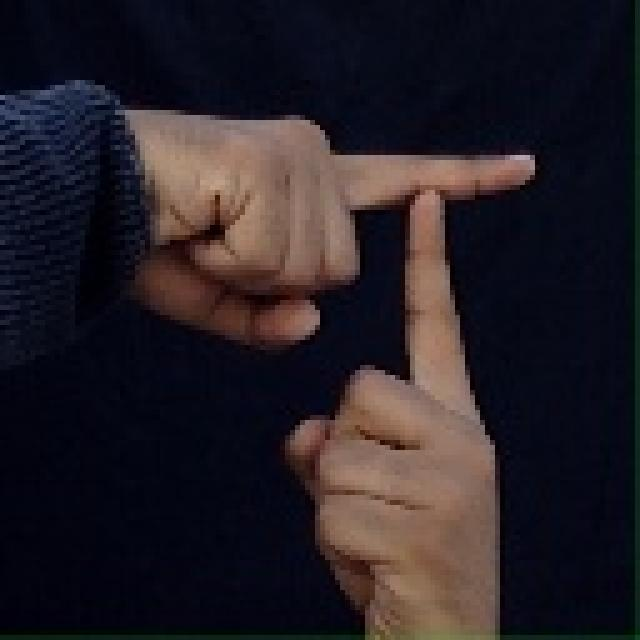Alphabet-T: (75, 55, 538, 638)
